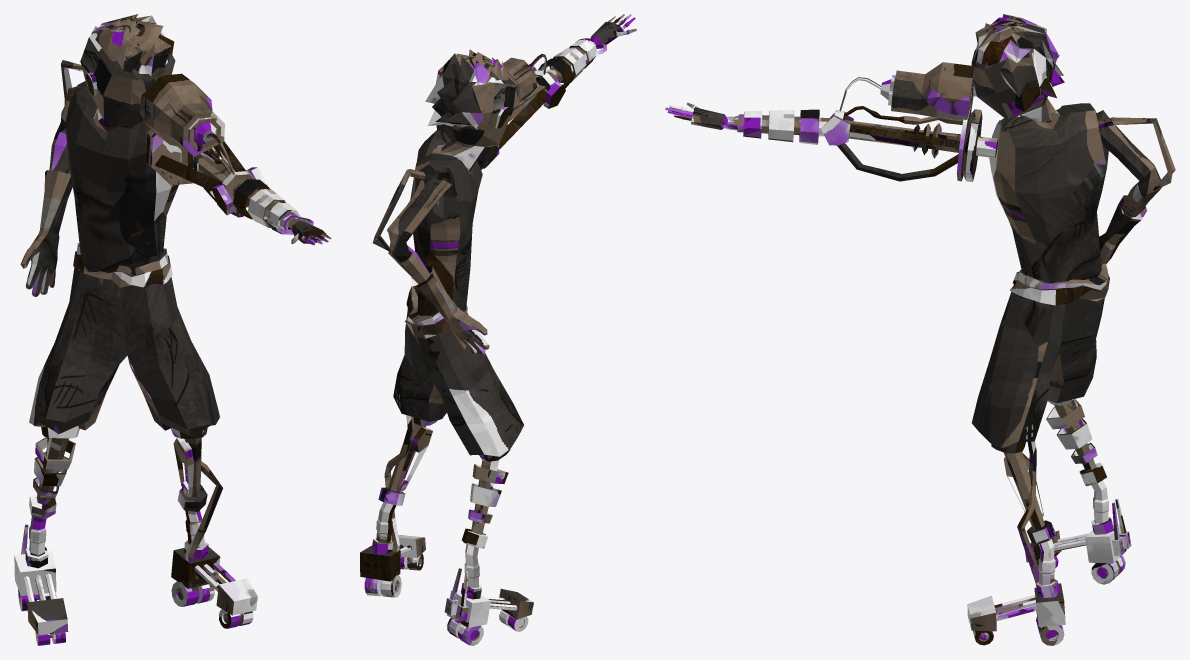
The model's file is CyborgFINALAnimation_000075.obj.
3 renders of one model, left to right at view 1: azimuth 30°, elevation 25°; view 2: azimuth 150°, elevation 25°; view 3: azimuth 270°, elevation 25°, orthographic. The views are drawn at different scales.
Parts seen in each view (by area): view 1: CyborgMesh_Cube.002; view 2: CyborgMesh_Cube.002; view 3: CyborgMesh_Cube.002.
Boxes of the visible parts, x1,y1,x2,y2 form: CyborgMesh_Cube.002: [14, 14, 331, 645]; CyborgMesh_Cube.002: [360, 14, 636, 645]; CyborgMesh_Cube.002: [665, 14, 1175, 645].
Bounding box in the file's own units: 3 × 9.49 × 7.52.
